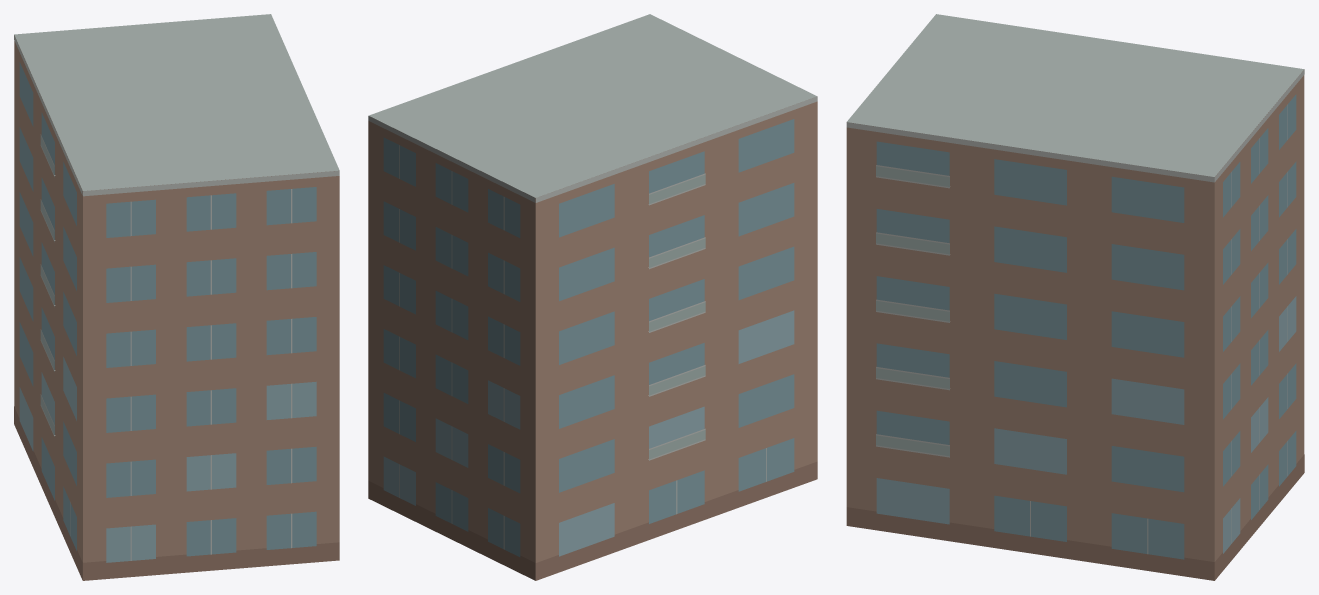
Rendered from survey-upis-32709537.glb.
3 views of the same model, side by side, from view 1: azimuth 30°, elevation 25°; view 2: azimuth 150°, elevation 25°; view 3: azimuth 270°, elevation 25° (orthographic). The views are drawn at different scales.
Visible parts, largest first — view 1: survey-upis-32709537.tmp; view 2: survey-upis-32709537.tmp; view 3: survey-upis-32709537.tmp.
Boxes of the visible parts, x1,y1,x2,y2 form: survey-upis-32709537.tmp: (14,14,339,580); survey-upis-32709537.tmp: (368,14,817,580); survey-upis-32709537.tmp: (846,14,1304,580).
Size of the model in its own units: 15.86 by 18.3 by 18.82.
